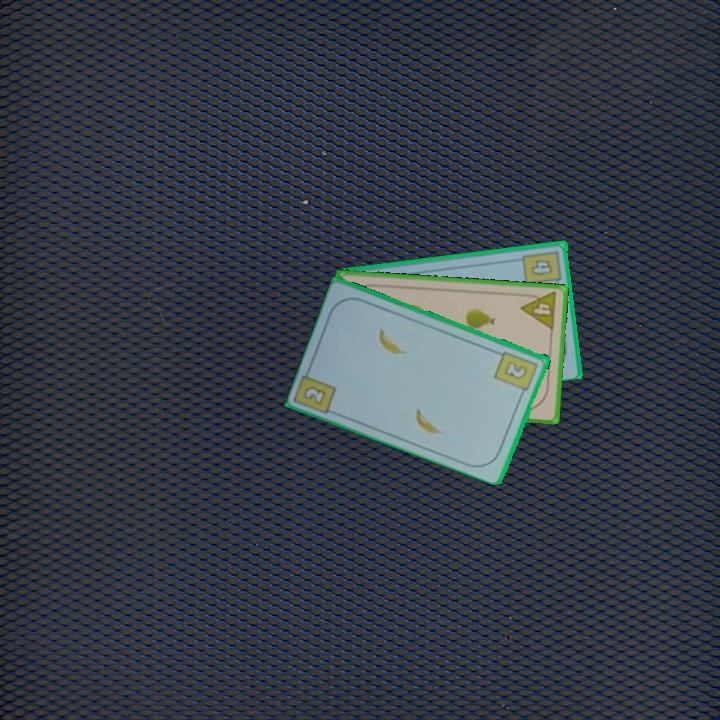2b: (491, 347, 541, 399), (300, 382, 329, 407)
4b: (520, 247, 565, 290)
4p: (518, 288, 560, 333)
